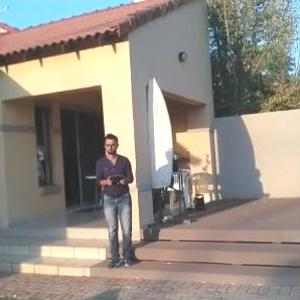follow: (92, 129, 139, 273)
